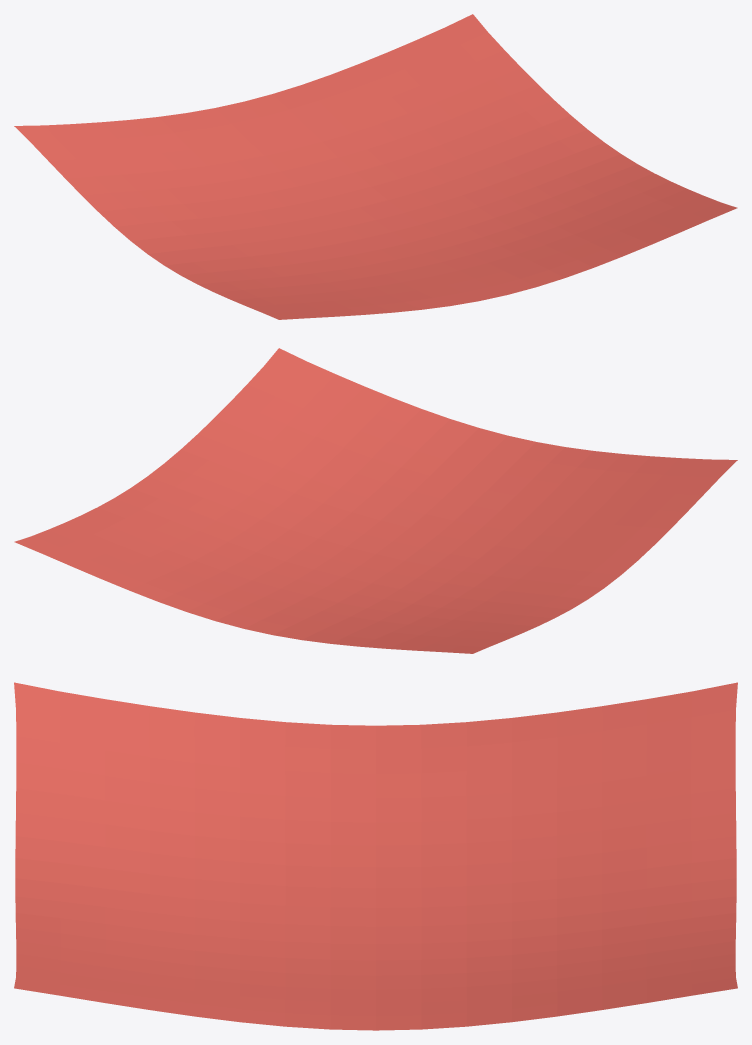
Rendered from ceiling_tarp.fbx.
3 views of the same model, one above another, from view 1: azimuth 30°, elevation 25°; view 2: azimuth 150°, elevation 25°; view 3: azimuth 270°, elevation 25° (orthographic). The views are drawn at different scales.
Visible parts, largest first — view 1: ceiling tarp; view 2: ceiling tarp; view 3: ceiling tarp.
Boxes of the visible parts, bbox=[...] form: ceiling tarp: bbox=[14, 14, 737, 319]; ceiling tarp: bbox=[14, 348, 737, 653]; ceiling tarp: bbox=[14, 682, 737, 1030].
Size of the model in its own units: 1000 by 111 by 1000.
